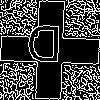D: (25, 25, 63, 72)
